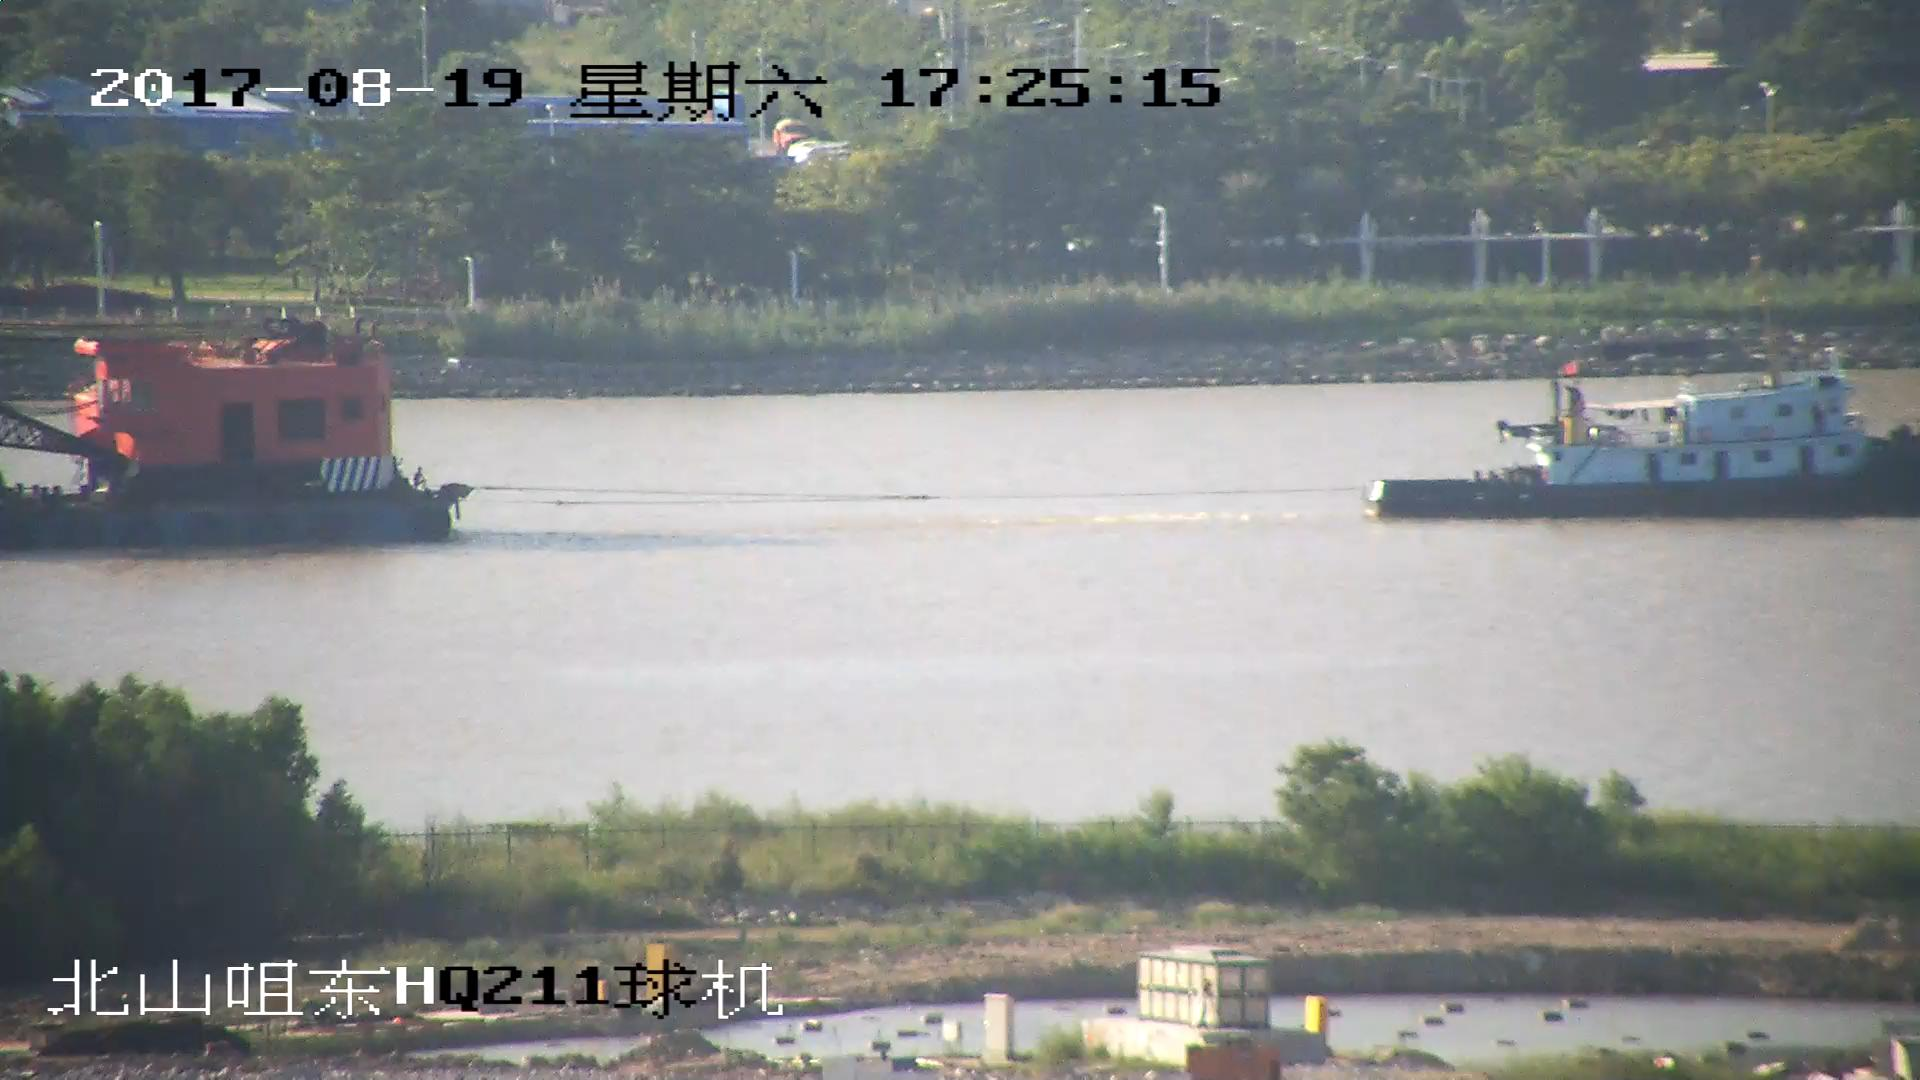fishing boat: (1, 315, 475, 543), (1366, 380, 1920, 518)
